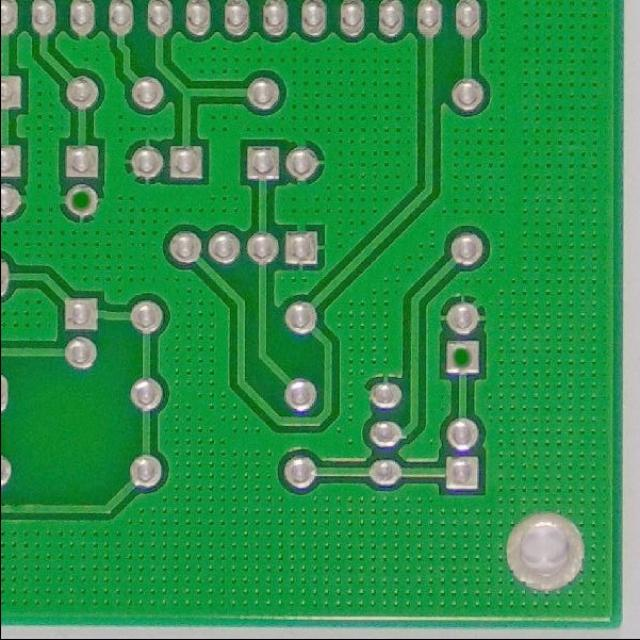Missing_Hole: (441, 336, 483, 379), (61, 180, 102, 218)
